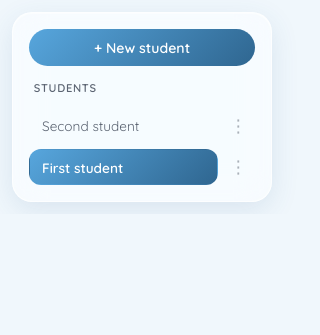
Test: Sidebar › rename › switches to an inline input when Rename is chosen
Step 1. Click the button named "Options for First student" → [238, 167], box [221,154,255,181]
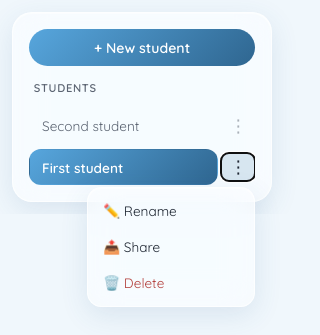
Step 2. Click the menu item "✏️ Rename" → [171, 211], box [94,193,248,228]
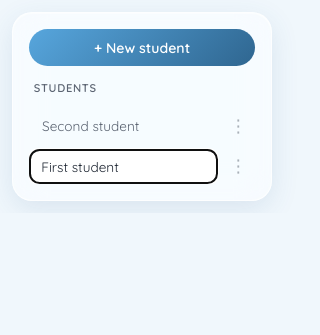
Result: the field named "Rename student" holds "First student" at [29,149,218,184]
